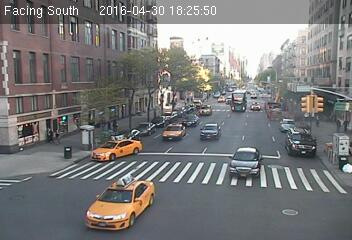neg: (297, 86, 335, 138), (145, 50, 178, 95), (103, 171, 135, 214), (5, 44, 35, 85), (226, 83, 253, 119), (232, 151, 259, 187), (75, 123, 99, 156), (152, 116, 175, 147), (60, 48, 81, 76), (57, 144, 74, 167), (281, 199, 298, 222), (328, 146, 345, 168), (199, 37, 213, 56)
pos: (43, 129, 54, 143)
